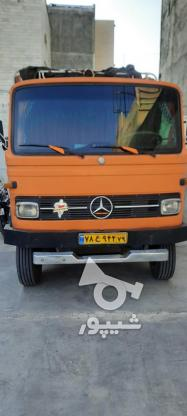car: (76, 231, 129, 245)
